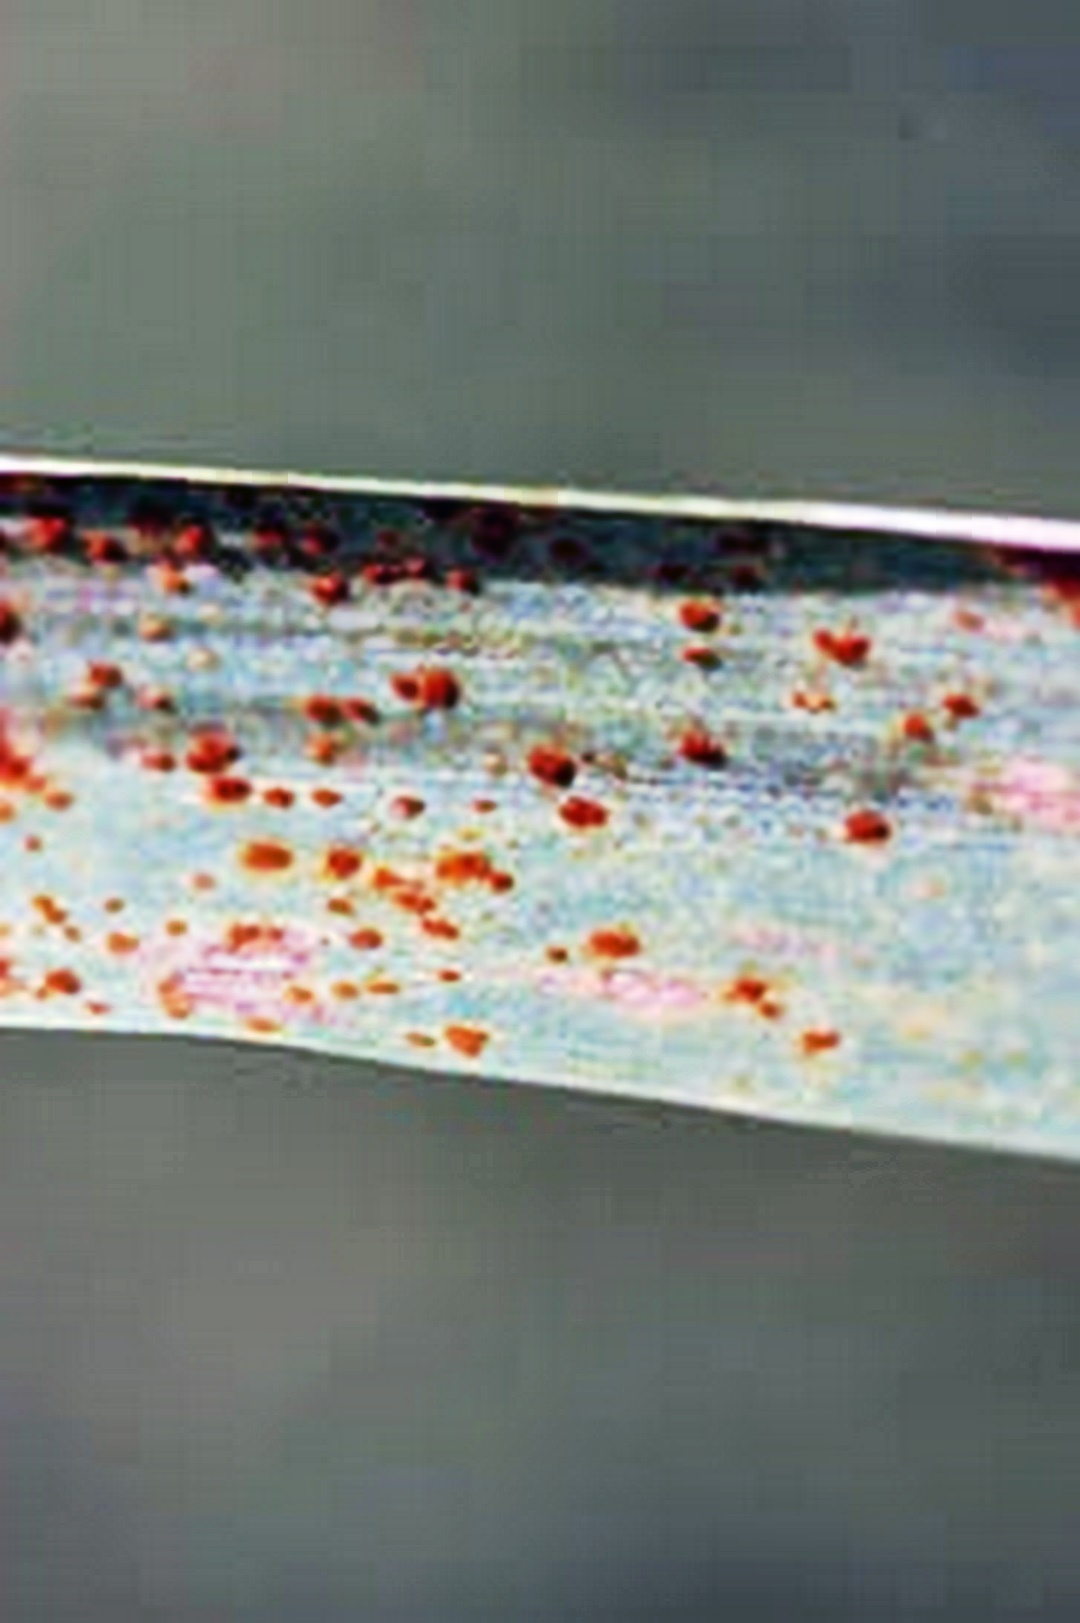Leaf Rust: (19, 480, 939, 1107)
